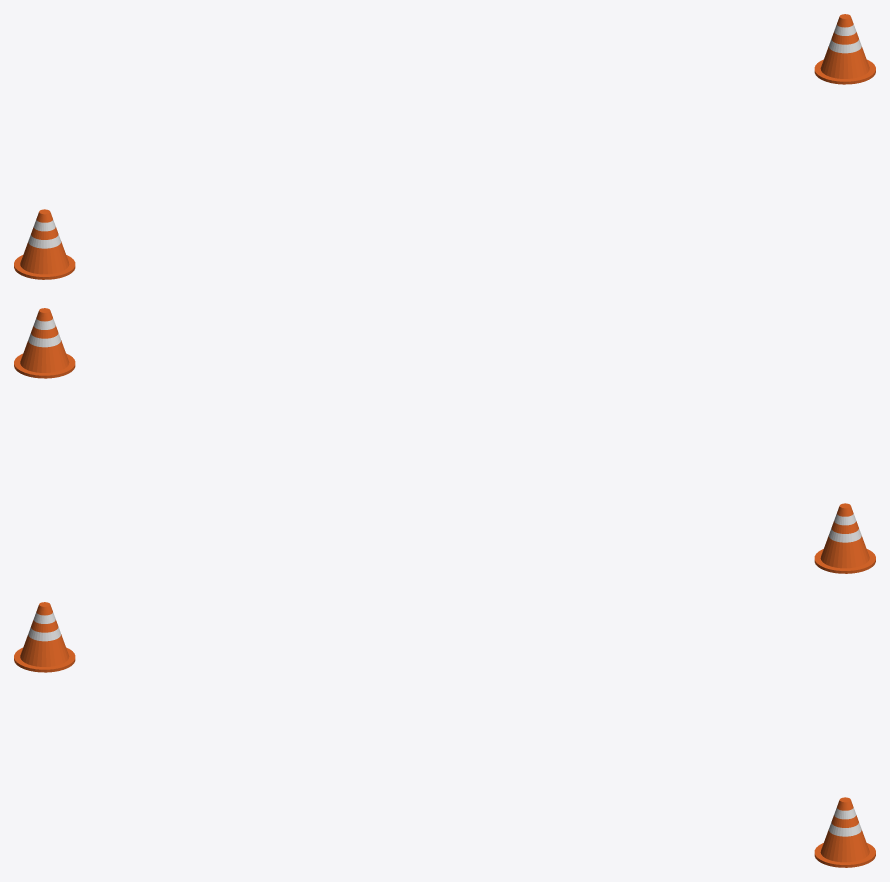
File: TEST KONUD.fbx
3 renders of one model, top to bottom at view 1: azimuth 30°, elevation 25°; view 2: azimuth 150°, elevation 25°; view 3: azimuth 330°, elevation 25°, orthographic.
Parts seen in each view (by area): view 1: Cylinder; view 2: Cylinder; view 3: Cylinder.
Part boxes in pixels (x1=…): Cylinder: x1=14, y1=14, x2=875, y2=279; Cylinder: x1=14, y1=308, x2=875, y2=573; Cylinder: x1=14, y1=602, x2=875, y2=867.
Size of the model in its own units: 3200 by 197 by 200.
